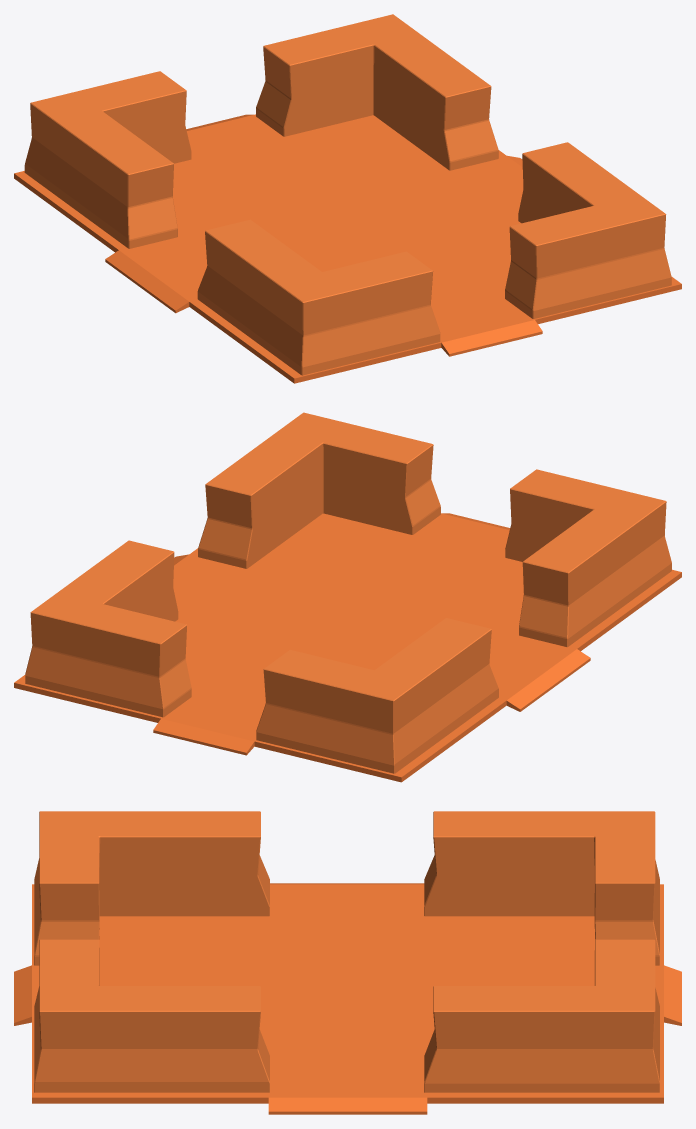
File: House Bot.fbx
3 views of the same model, one above another, from view 1: azimuth 30°, elevation 25°; view 2: azimuth 150°, elevation 25°; view 3: azimuth 270°, elevation 25° (orthographic). The views are drawn at different scales.
Parts seen in each view (by area): view 1: Cube.002; view 2: Cube.002; view 3: Cube.002.
Boxes of the visible parts, x1,y1,x2,y2 form: Cube.002: (14, 14, 681, 383); Cube.002: (14, 412, 681, 782); Cube.002: (14, 811, 681, 1114).
Size of the model in its own units: 659 by 120 by 815.
